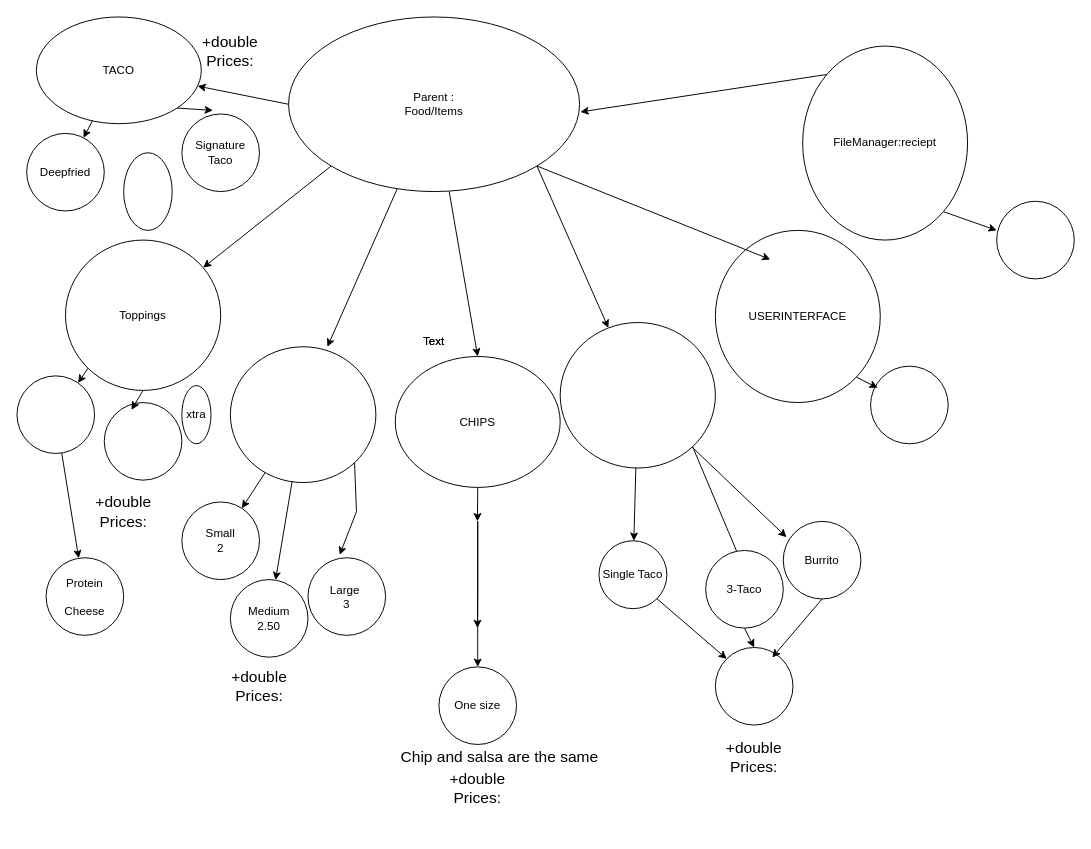
The diagram is 1091 pixels wide and 849 high, and some of its shapes have lost their labels. Here are the shapes that lost their labels. From the top down, the box of each, then its label:
(123, 152, 172, 230): tacoTypes
(996, 200, 1074, 279): LocalDateTime
(16, 375, 95, 453): Premium
(229, 346, 376, 483): DRINKS
(559, 322, 715, 468): ORDERS
(870, 365, 948, 444): main: ui
(103, 402, 182, 480): Regular
(714, 647, 793, 725): corn flour hardshell bowl
